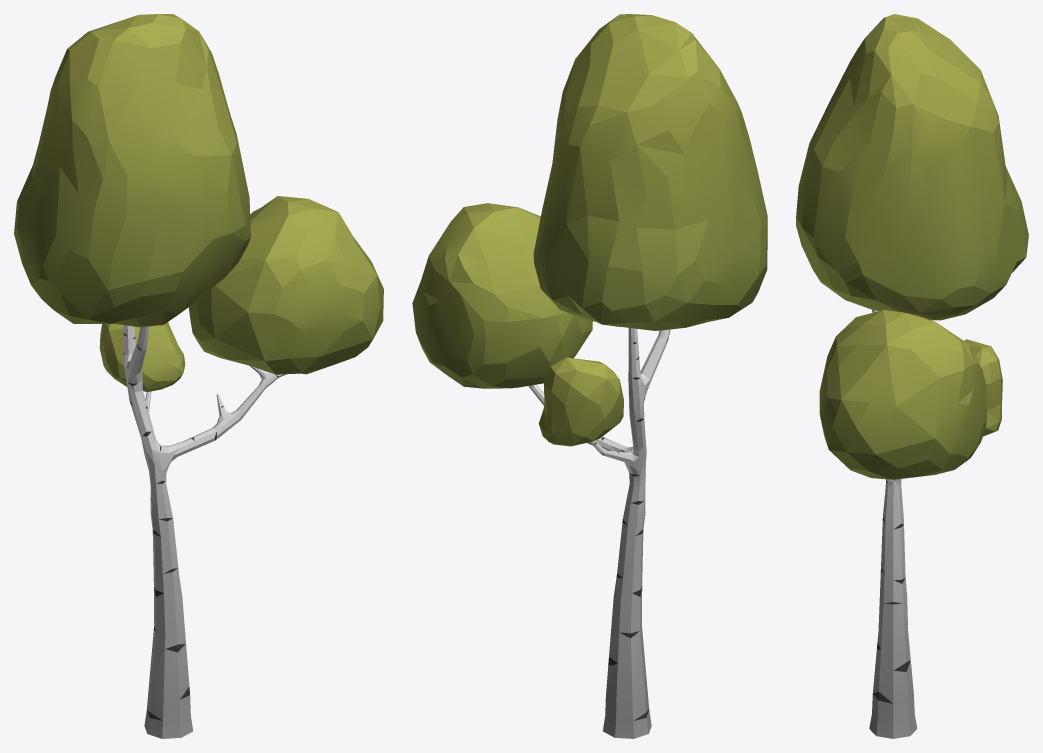
File: Spring_Tree_15.glb
The picture shows the model from 3 angles, left to right: view 1: azimuth 30°, elevation 25°; view 2: azimuth 150°, elevation 25°; view 3: azimuth 270°, elevation 25°; orthographic projection. The views are drawn at different scales.
Visible parts, largest first — view 1: Spring_Tree_15_LOD0; view 2: Spring_Tree_15_LOD0; view 3: Spring_Tree_15_LOD0.
Part boxes in pixels (x1,y1,x2,y2): Spring_Tree_15_LOD0: [14, 14, 383, 738]; Spring_Tree_15_LOD0: [412, 14, 767, 738]; Spring_Tree_15_LOD0: [796, 14, 1028, 738].
Size of what is drawn, in the model's own units: 3.9 by 7.98 by 2.44.
1 material, 1 textured.
